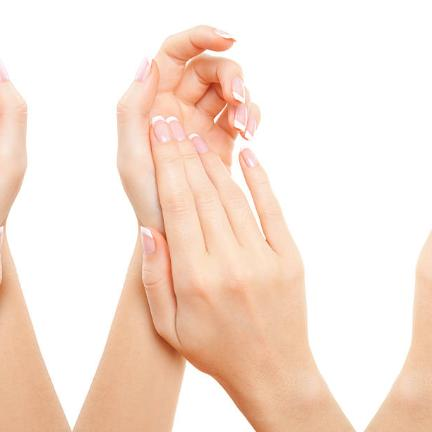Nail: (151, 116, 172, 142), (165, 116, 186, 141), (134, 56, 151, 81), (188, 134, 209, 154), (234, 104, 248, 132), (141, 227, 155, 254), (241, 148, 257, 168), (232, 78, 244, 103), (244, 118, 257, 140), (214, 28, 236, 41), (0, 60, 10, 81), (0, 227, 3, 252)
